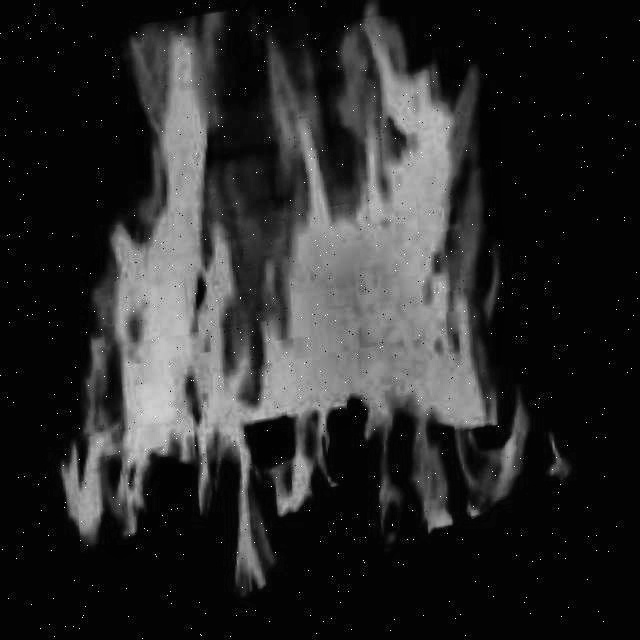Fire: (7, 0, 625, 624)
